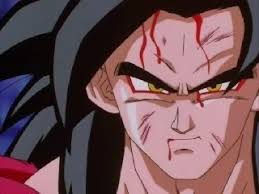Songoku: (102, 18, 258, 180)
